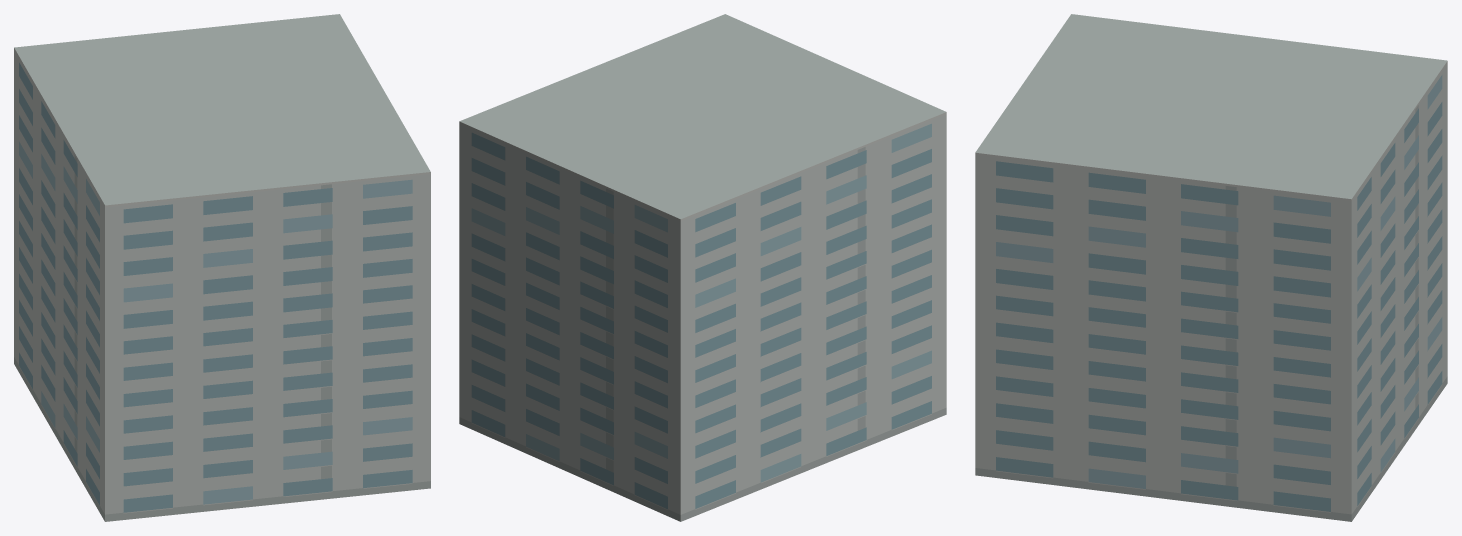
The model's file is residential-3328fae5-822c-4855-bc9c-35ebb0765b5a.glb.
3 renders of one model, left to right at view 1: azimuth 30°, elevation 25°; view 2: azimuth 150°, elevation 25°; view 3: azimuth 270°, elevation 25°, orthographic. The views are drawn at different scales.
Parts seen in each view (by area): view 1: residential-3328fae5-822c-4855-bc9c-35ebb0765b5a.tmp; view 2: residential-3328fae5-822c-4855-bc9c-35ebb0765b5a.tmp; view 3: residential-3328fae5-822c-4855-bc9c-35ebb0765b5a.tmp.
Part boxes in pixels (x1,y1,x2,y2): residential-3328fae5-822c-4855-bc9c-35ebb0765b5a.tmp: (14, 14, 430, 521); residential-3328fae5-822c-4855-bc9c-35ebb0765b5a.tmp: (459, 14, 946, 521); residential-3328fae5-822c-4855-bc9c-35ebb0765b5a.tmp: (975, 14, 1447, 521).
Size of the model in its own units: 45.56 by 37 by 49.11.
